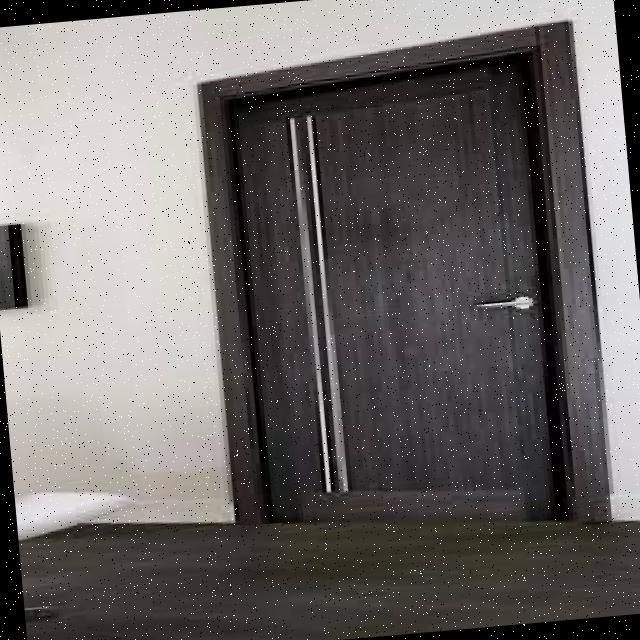Door: (207, 41, 586, 562)
